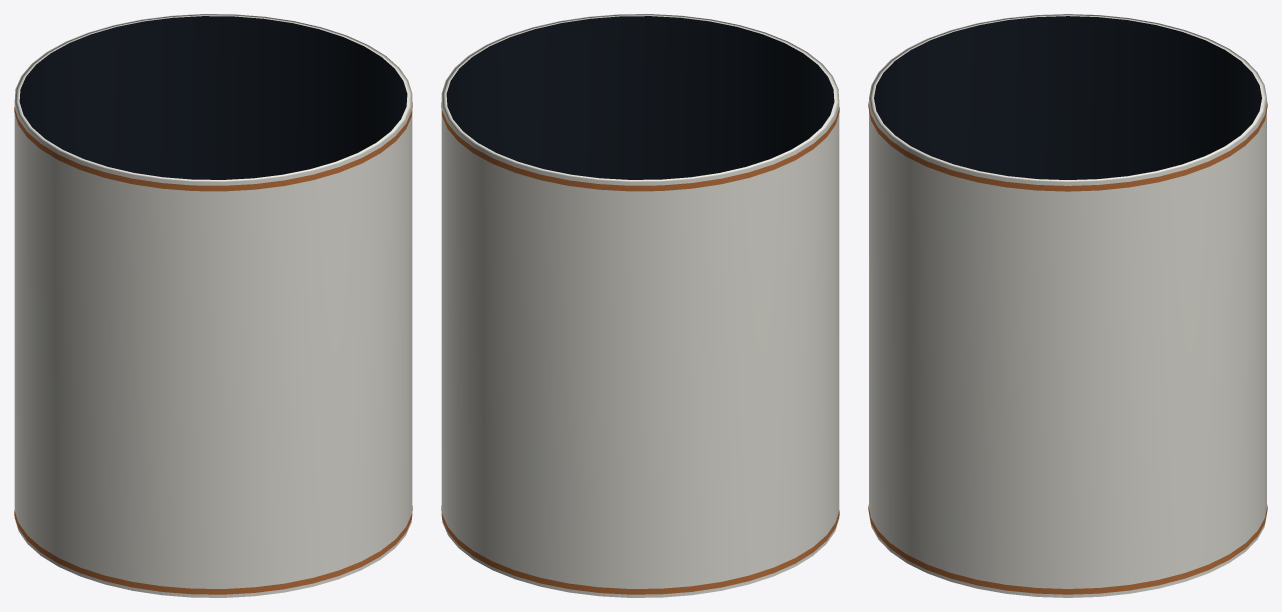
The picture shows the model from 3 angles, left to right: view 1: azimuth 30°, elevation 25°; view 2: azimuth 150°, elevation 25°; view 3: azimuth 270°, elevation 25°; orthographic projection.
Parts seen in each view (by area): view 1: is_250.mesh_Warm_white_enamel, is_250.mesh_Shadowed_interior, is_250.mesh_Spray-on_insulation; view 2: is_250.mesh_Warm_white_enamel, is_250.mesh_Shadowed_interior, is_250.mesh_Spray-on_insulation; view 3: is_250.mesh_Warm_white_enamel, is_250.mesh_Shadowed_interior, is_250.mesh_Spray-on_insulation.
Boxes of the visible parts, box(x1,y1,x2,y2) form: is_250.mesh_Warm_white_enamel: box(14, 14, 412, 597); is_250.mesh_Shadowed_interior: box(19, 16, 407, 179); is_250.mesh_Spray-on_insulation: box(14, 102, 412, 594); is_250.mesh_Warm_white_enamel: box(441, 14, 839, 597); is_250.mesh_Shadowed_interior: box(446, 16, 834, 179); is_250.mesh_Spray-on_insulation: box(441, 102, 839, 594); is_250.mesh_Warm_white_enamel: box(869, 14, 1266, 597); is_250.mesh_Shadowed_interior: box(874, 16, 1261, 179); is_250.mesh_Spray-on_insulation: box(868, 102, 1267, 594).
Size of the model in its own units: 2.57 by 2.95 by 2.57.
